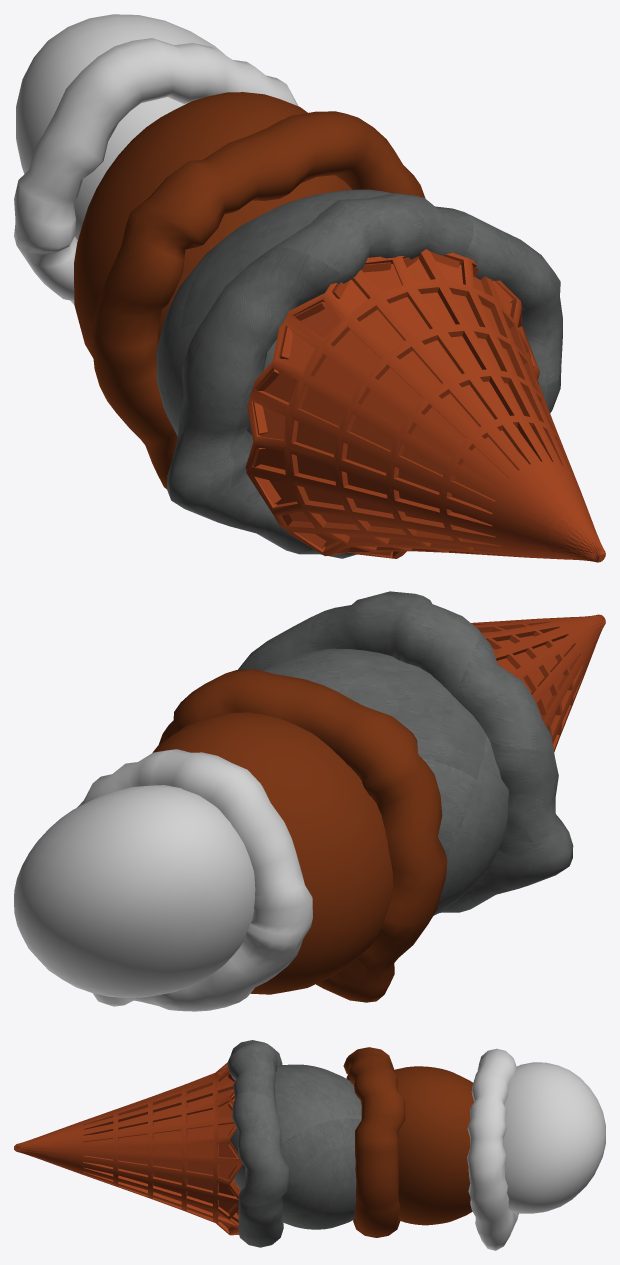
Rendered from Ice Cream.FBX.
3 renders of one model, top to bottom at view 1: azimuth 30°, elevation 25°; view 2: azimuth 150°, elevation 25°; view 3: azimuth 270°, elevation 25°, orthographic. The views are drawn at different scales.
Visible parts, largest first — view 1: Sphere002; view 2: Sphere002; view 3: Sphere002.
Part boxes in pixels (x1,y1,x2,y2): Sphere002: [14, 14, 605, 562]; Sphere002: [14, 591, 605, 1011]; Sphere002: [14, 1040, 605, 1250].
Bounding box in the file's own units: 6.41 × 5.62 × 15.95.
